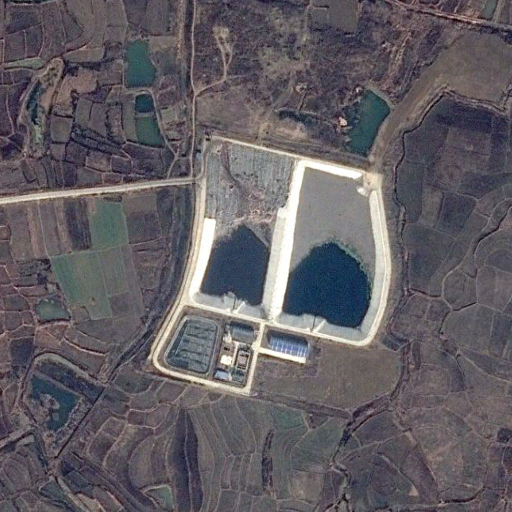lf: (187, 134, 391, 346)
